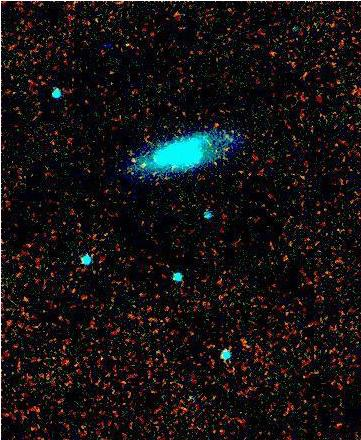star: (119, 145, 149, 175)
